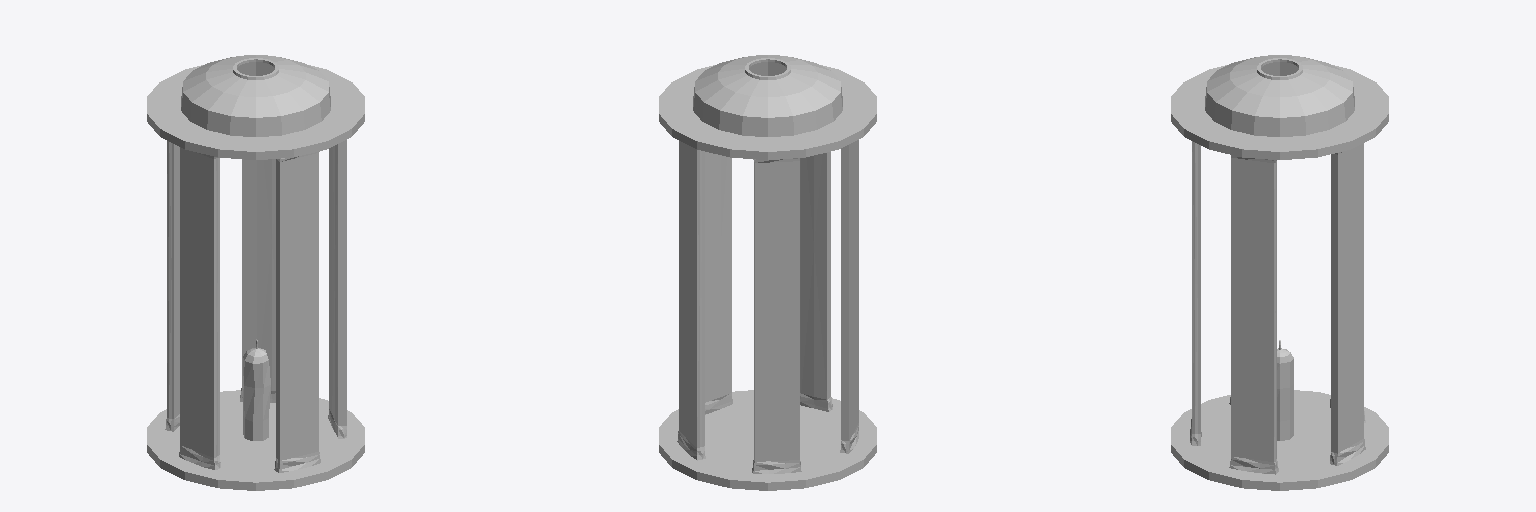
File: Lantern_OBJ.obj
3 renders of one model, left to right at view 1: azimuth 30°, elevation 25°; view 2: azimuth 150°, elevation 25°; view 3: azimuth 270°, elevation 25°, orthographic.
Visible parts, largest first — view 1: Lantern_low; view 2: Lantern_low; view 3: Lantern_low.
Boxes of the visible parts, x1=… form: Lantern_low: x1=147, y1=55, x2=364, y2=490; Lantern_low: x1=659, y1=55, x2=876, y2=490; Lantern_low: x1=1171, y1=55, x2=1388, y2=490.
Bounding box in the file's own units: 31.11 × 58.32 × 30.64.